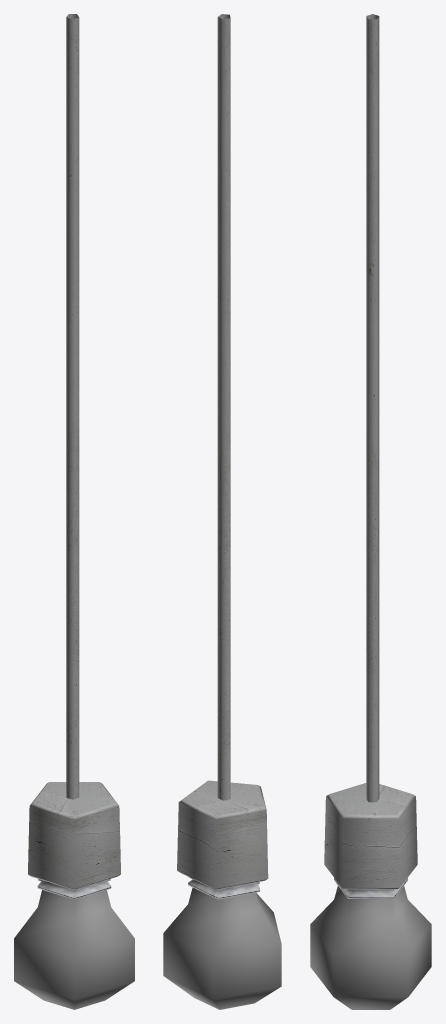
Rendered from SM_LightBulbA.FBX.
The picture shows the model from 3 angles, left to right: view 1: azimuth 90°, elevation 25°; view 2: azimuth 150°, elevation 25°; view 3: azimuth 270°, elevation 25°; orthographic projection.
Visible parts, largest first — view 1: SM_LightBulbA; view 2: SM_LightBulbA; view 3: SM_LightBulbA.
Boxes of the visible parts, x1,y1,x2,y2 form: SM_LightBulbA: (14,14,134,1009); SM_LightBulbA: (163,14,281,1009); SM_LightBulbA: (310,14,431,1009).
Bounding box in the file's own units: 5.38 × 50.66 × 5.66.
